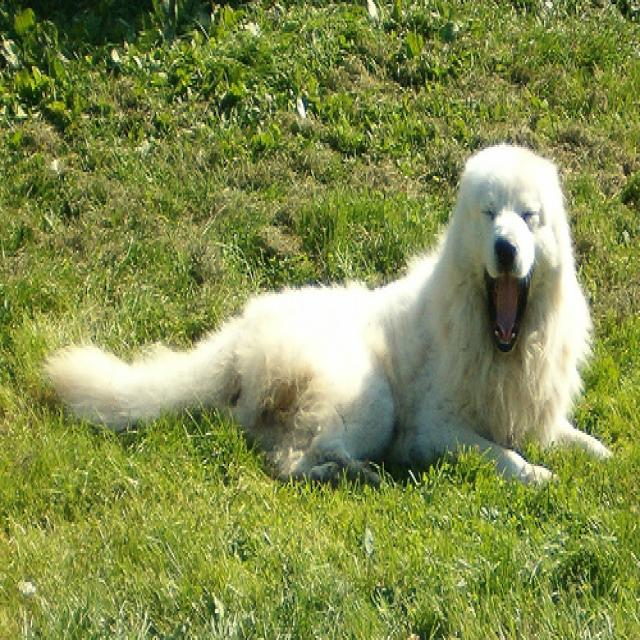dog-great_pyrenees: (41, 124, 613, 487)
